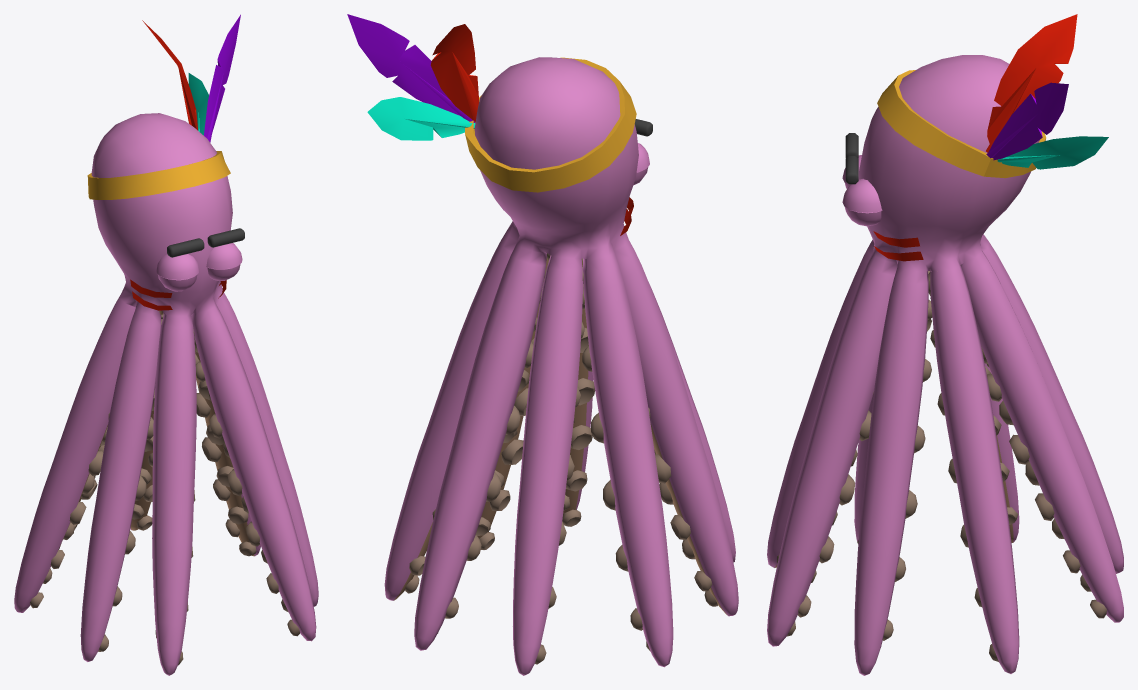
The model's file is Kraken_Jungle.fbx.
The picture shows the model from 3 angles, left to right: view 1: azimuth 30°, elevation 25°; view 2: azimuth 150°, elevation 25°; view 3: azimuth 270°, elevation 25°; orthographic projection. The views are drawn at different scales.
Parts seen in each view (by area): view 1: Octopus.003, Circle.057, Suckers.003, Eyelids_up_r.003, Eyelids_up_l.003, Eyebrows_l.003, Eyebrows_r.003; view 2: Octopus.003, Circle.057, Suckers.003; view 3: Octopus.003, Circle.057, Suckers.003, Eyelids_up_l.003.
Part boxes in pixels (x1,y1,x2,y2): Octopus.003: (14,113,318,675); Circle.057: (87,14,240,310); Suckers.003: (30,314,299,665); Eyelids_up_r.003: (156,254,199,279); Eyelids_up_l.003: (206,243,242,269); Eyebrows_l.003: (207,228,244,247); Eyebrows_r.003: (167,238,204,257); Octopus.003: (384,57,738,675); Circle.057: (347,14,636,235); Suckers.003: (405,253,718,664); Octopus.003: (767,55,1123,675); Circle.057: (873,14,1108,261); Suckers.003: (777,271,1106,661); Eyelids_up_l.003: (842,178,882,212).
Size of the model in its own units: 3.72 by 7.59 by 3.98.
